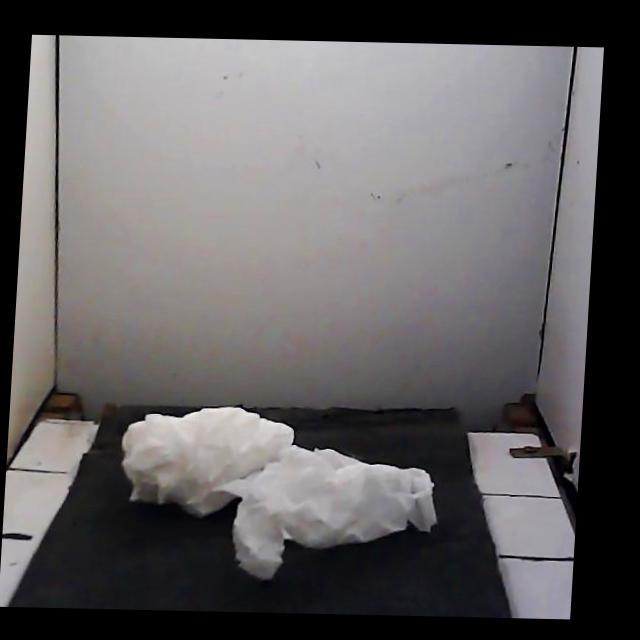papel: (123, 408, 436, 579)
